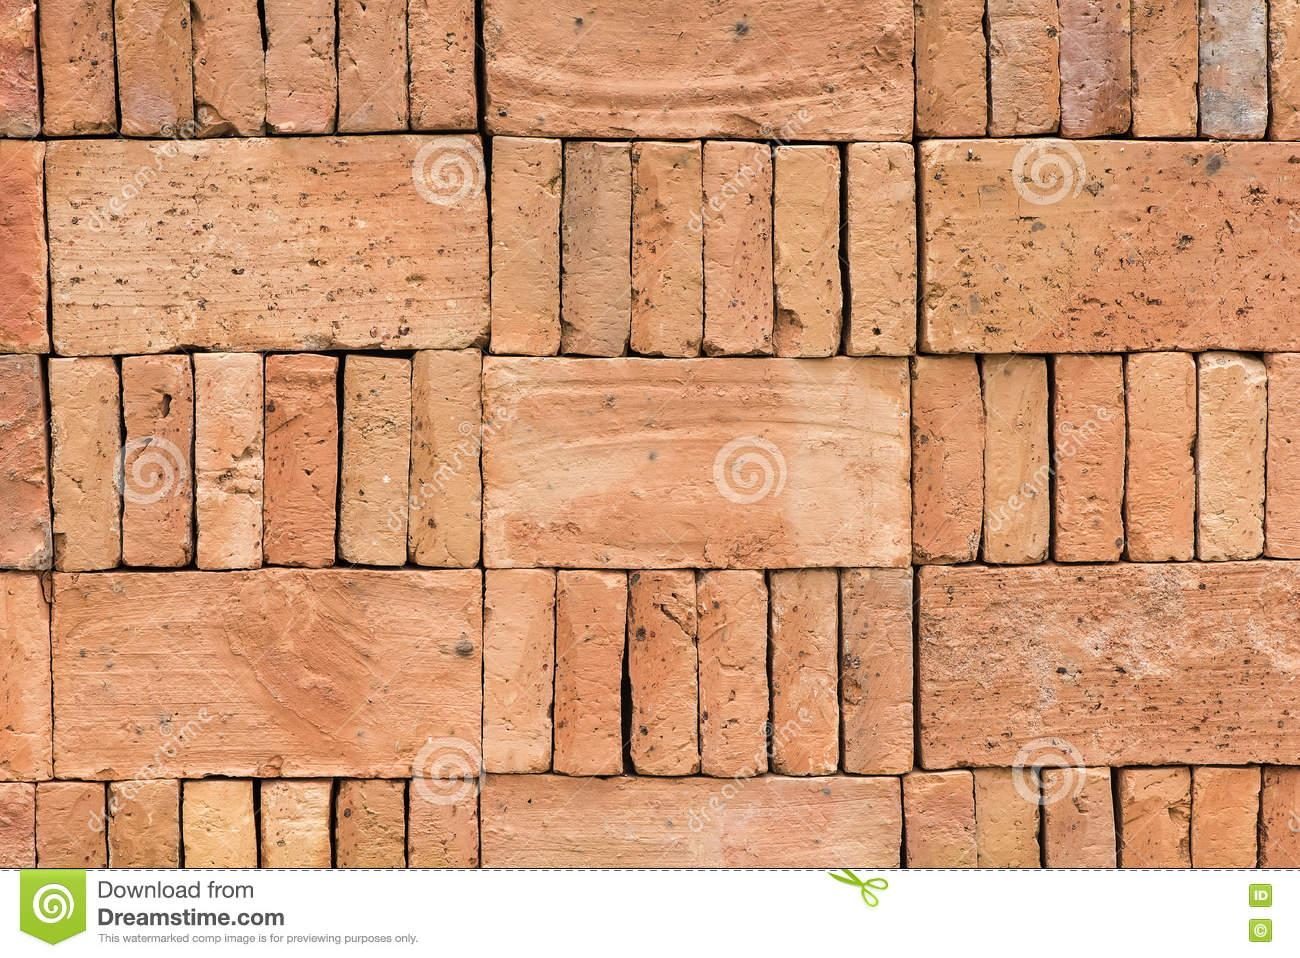brick: (45, 134, 491, 356), (482, 355, 912, 567), (51, 569, 482, 779), (919, 138, 1300, 353), (920, 564, 1300, 769), (482, 0, 914, 141), (480, 775, 900, 867), (630, 141, 703, 357), (264, 354, 338, 567), (47, 357, 120, 570), (492, 135, 562, 354), (410, 348, 480, 567), (553, 569, 628, 775), (703, 141, 775, 353), (1053, 355, 1125, 561), (911, 357, 984, 563), (122, 355, 193, 565), (842, 567, 913, 774), (561, 141, 630, 356), (628, 569, 699, 775), (698, 569, 769, 777), (194, 352, 261, 569), (341, 355, 411, 565), (1125, 351, 1196, 558), (482, 569, 554, 772), (848, 141, 914, 356), (774, 145, 842, 356), (1197, 353, 1265, 559), (771, 570, 839, 775), (983, 355, 1048, 563), (0, 353, 55, 568), (0, 572, 52, 781), (115, 1, 195, 138), (0, 138, 48, 354), (38, 0, 116, 134), (191, 1, 266, 137), (1058, 0, 1130, 138), (987, 1, 1060, 136), (1129, 0, 1200, 136), (915, 0, 987, 133), (1199, 0, 1268, 138), (265, 0, 336, 134), (338, 0, 408, 132), (408, 0, 476, 128), (904, 770, 977, 868), (1191, 766, 1261, 868), (1044, 768, 1115, 867), (1118, 770, 1189, 867), (974, 770, 1040, 868), (408, 778, 478, 868), (183, 781, 255, 868), (260, 781, 332, 868), (108, 779, 179, 867), (336, 779, 405, 868), (35, 782, 105, 866)
